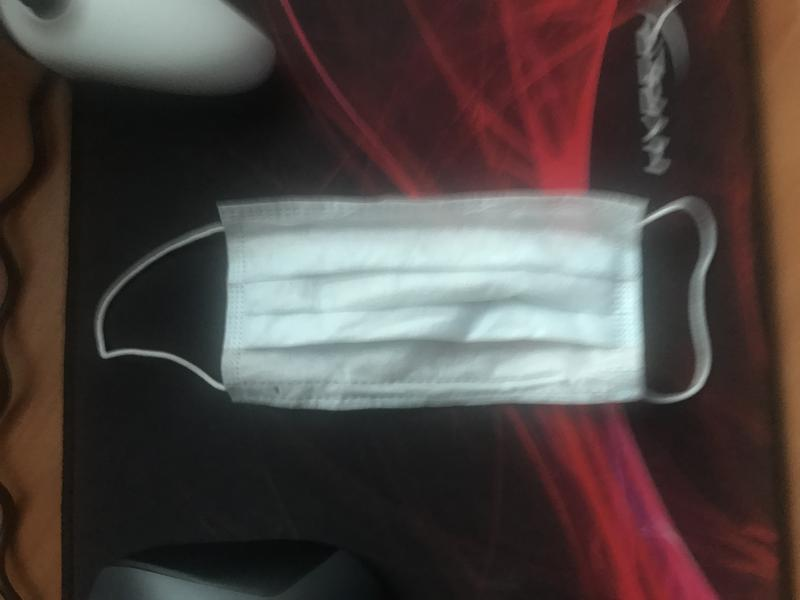medical_mask: (95, 200, 711, 405)
